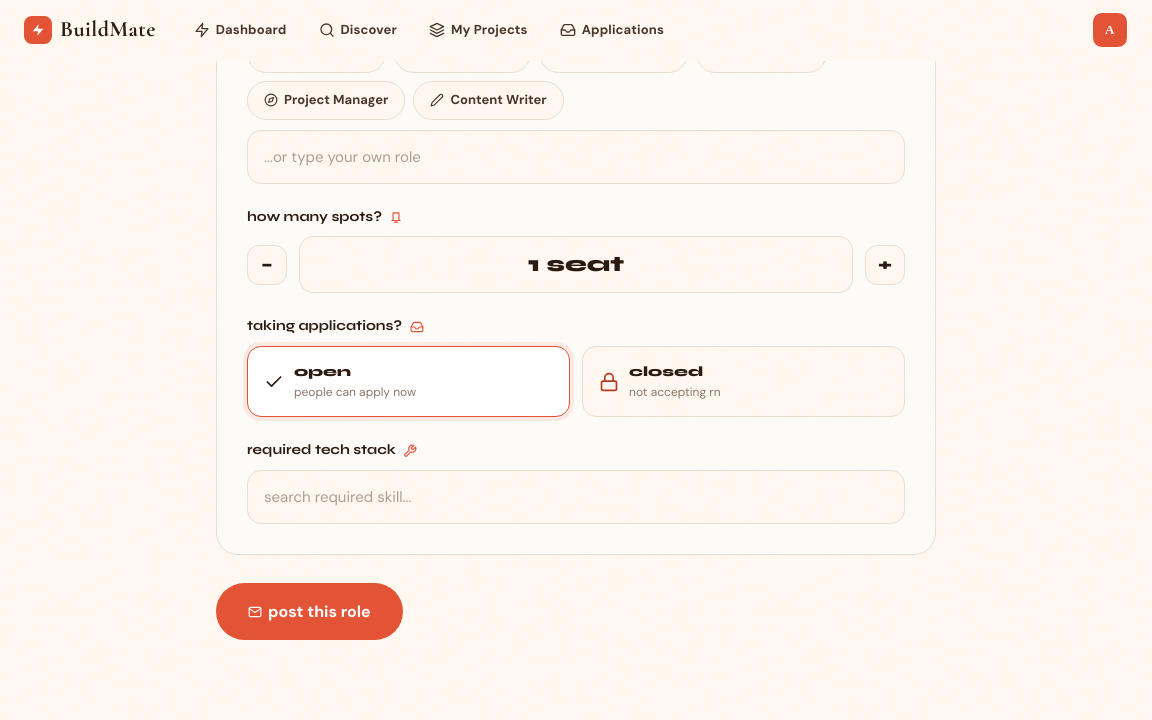
Test: CreateOpportunity - Creation Mode › handles removing selected skills
(page scrolled)
Type "Rea" into the field with placeholder "search required skill...".
click(576, 497); type("Rea")  # box left=247, top=470, right=905, bottom=524
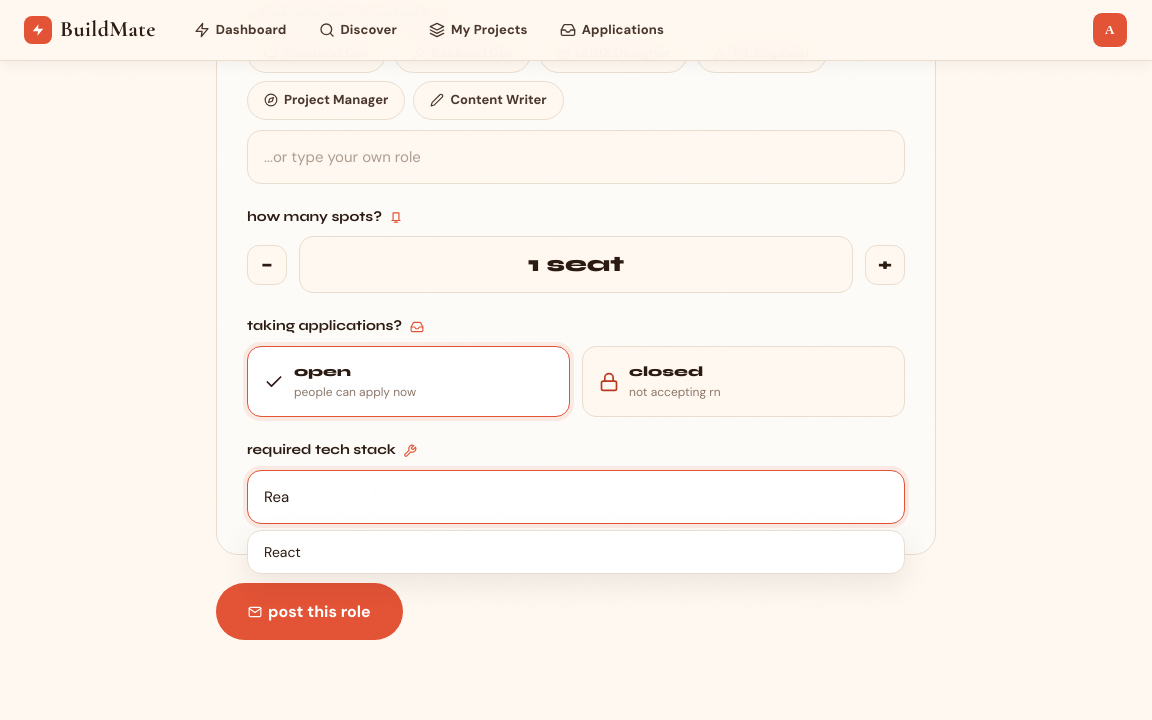
Click the text "React".
click(282, 552)  # box left=264, top=543, right=301, bottom=561
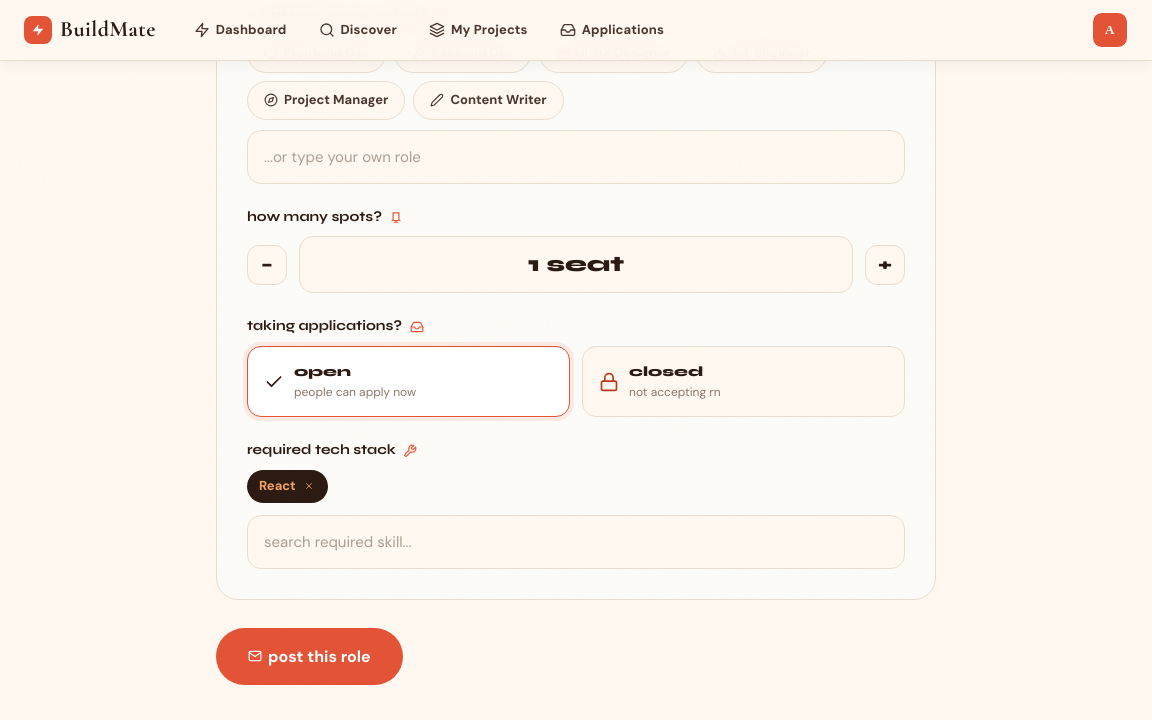
Click the 8th button.
click(309, 486)  # box left=302, top=481, right=316, bottom=491
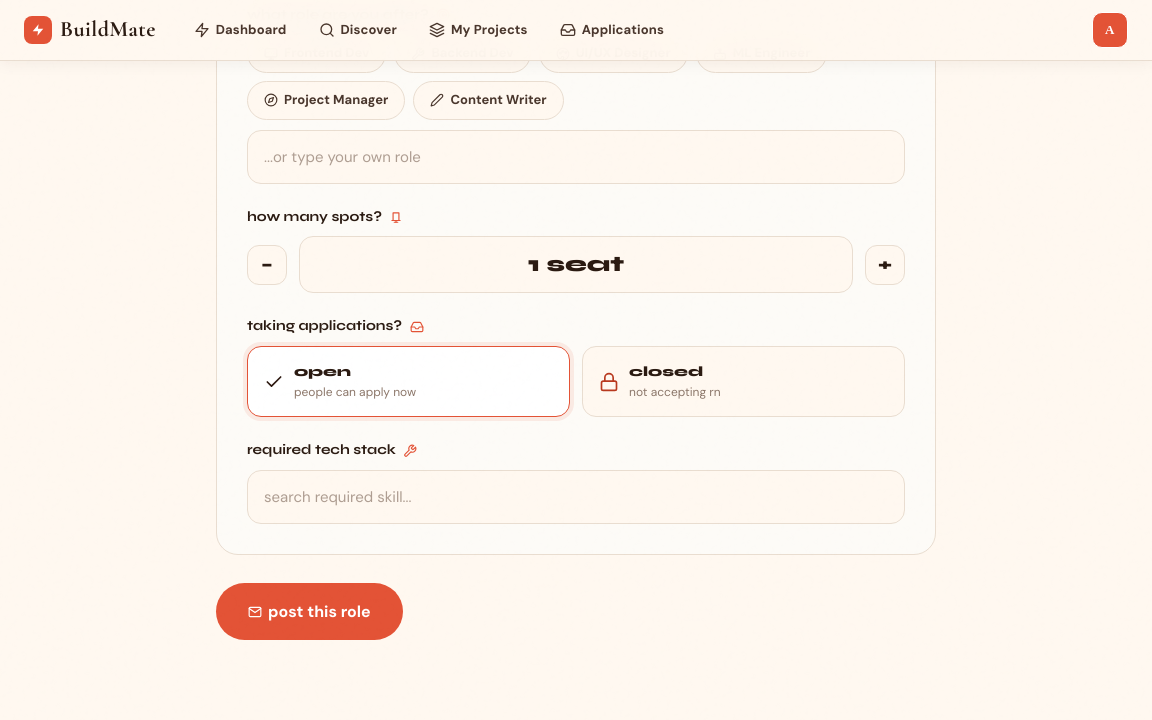
Check: the text "React" is gone
